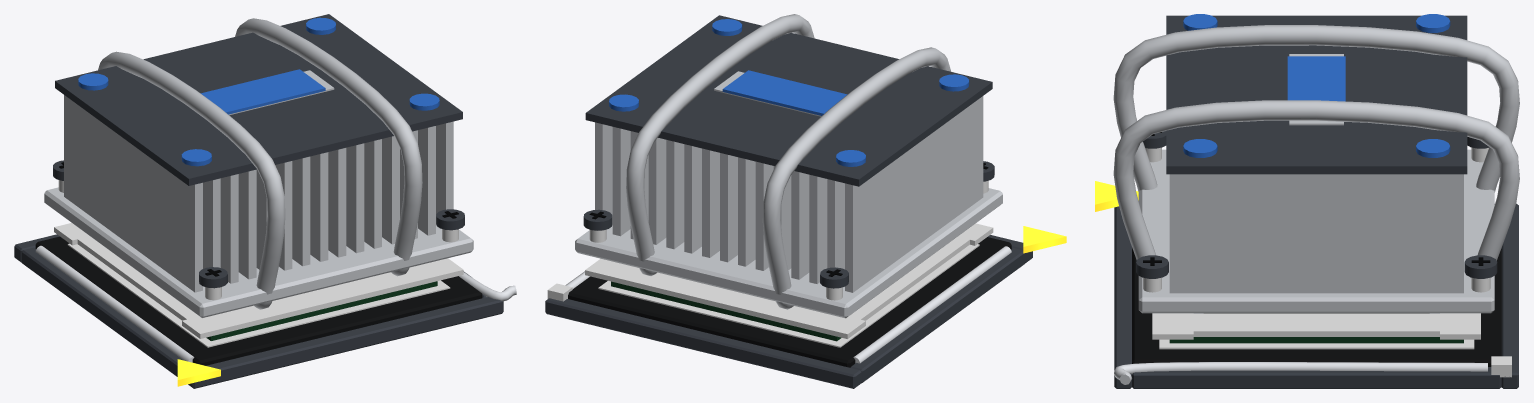
The model's file is hwm_cpu_i5_6c.glb.
3 renders of one model, left to right at view 1: azimuth 30°, elevation 25°; view 2: azimuth 150°, elevation 25°; view 3: azimuth 270°, elevation 25°, orthographic. The views are drawn at different scales.
Parts seen in each view (by area): view 1: Cooler, Socket, Frame, CPU, Screw_1, Screw_3, Lever; view 2: Cooler, Socket, Frame, CPU, Screw_2, Screw_0; view 3: Cooler, Socket, Frame, Lever, CPU, Screw_2, Screw_3, Screw_1, Screw_0.
Boxes of the visible parts, x1,y1,x2,y2 form: Cooler: [44, 14, 473, 317]; Socket: [14, 234, 503, 388]; Frame: [54, 223, 463, 338]; CPU: [206, 281, 437, 340]; Screw_1: [199, 267, 227, 300]; Screw_3: [436, 209, 464, 242]; Lever: [459, 272, 516, 301]; Cooler: [575, 14, 1002, 318]; Socket: [545, 226, 1066, 388]; Frame: [585, 223, 993, 338]; CPU: [611, 281, 841, 341]; Screw_2: [583, 209, 612, 242]; Screw_0: [820, 267, 848, 300]; Cooler: [1113, 14, 1519, 313]; Socket: [1095, 181, 1518, 388]; Frame: [1152, 313, 1480, 339]; Lever: [1114, 362, 1487, 384]; CPU: [1169, 313, 1463, 343]; Screw_2: [1464, 255, 1497, 292]; Screw_3: [1136, 255, 1168, 292]; Screw_1: [1143, 131, 1166, 162]; Screw_0: [1467, 137, 1489, 162].
Size of the model in its own units: 0.1338 by 0.0775 by 0.1241.
